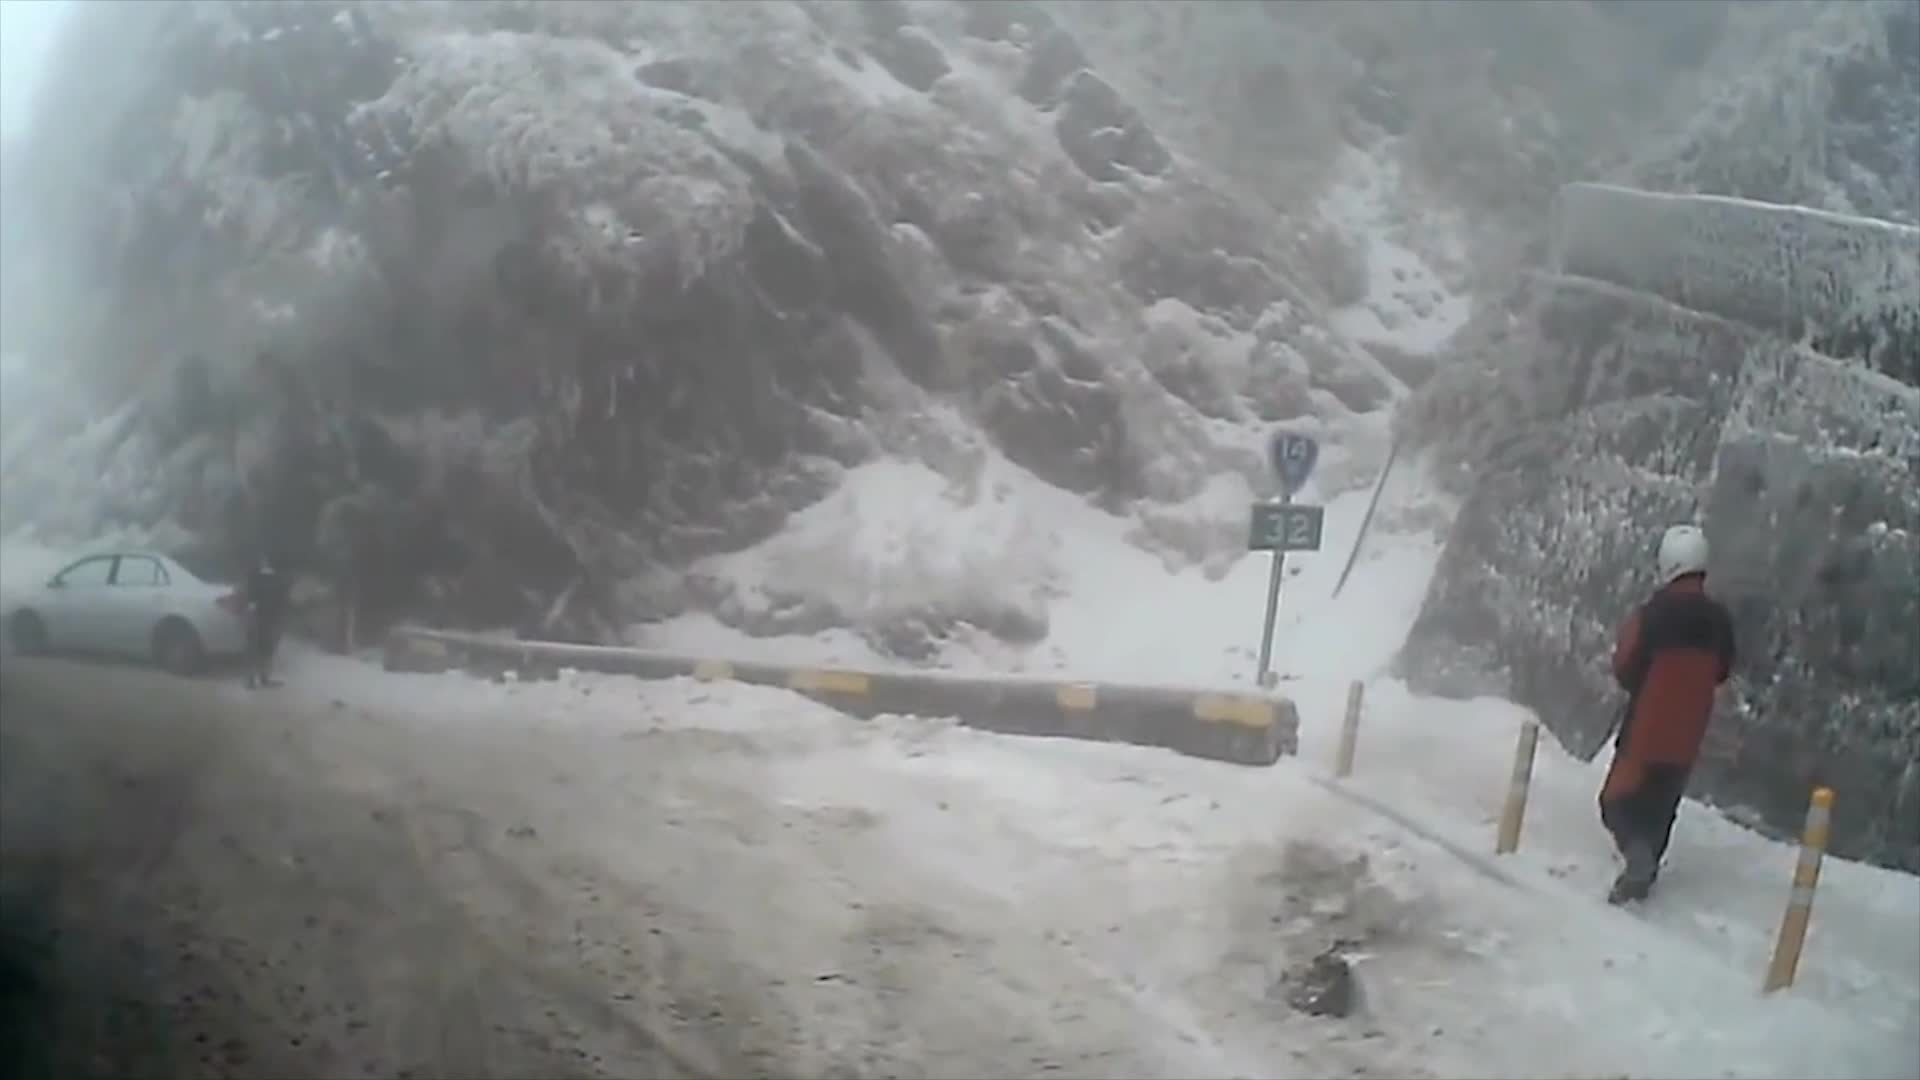pedestrian: (1592, 525, 1735, 909), (236, 567, 289, 699)
vehicle: (0, 548, 260, 678)
